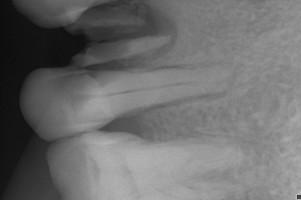Furcation Involvement: (85, 0, 180, 70)
